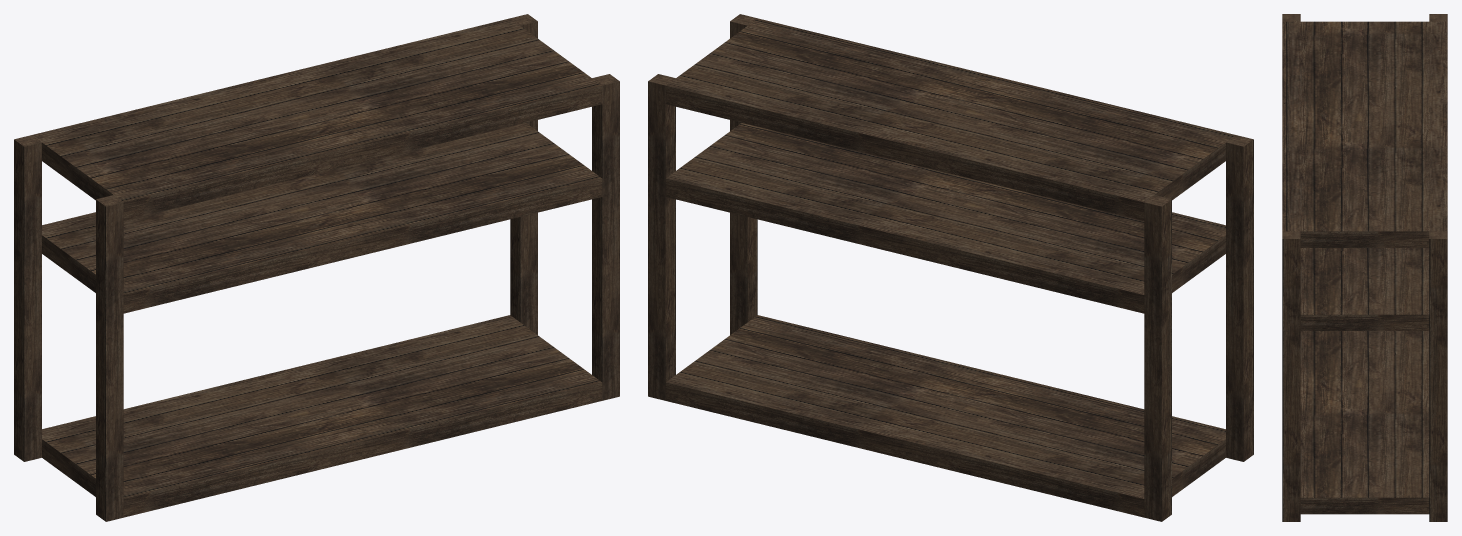
File: ShelfPotts.fbx
3 renders of one model, left to right at view 1: azimuth 30°, elevation 25°; view 2: azimuth 150°, elevation 25°; view 3: azimuth 270°, elevation 25°, orthographic. The views are drawn at different scales.
Visible parts, largest first — view 1: Shelf_02, Shelf_01; view 2: Shelf_02, Shelf_01; view 3: Shelf_02, Shelf_01.
Boxes of the visible parts, x1,y1,x2,y2 form: Shelf_02: (14,14,619,521); Shelf_01: (42,123,602,313); Shelf_02: (648,14,1253,521); Shelf_01: (665,123,1225,313); Shelf_02: (1282,14,1447,521); Shelf_01: (1300,248,1429,330).
Size of the model in its own units: 290 by 170 by 90.
